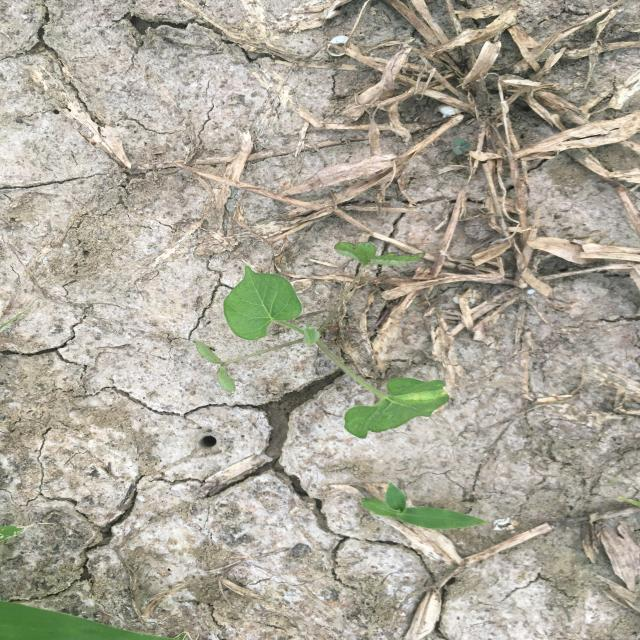MorningGlory: (192, 239, 453, 441)
